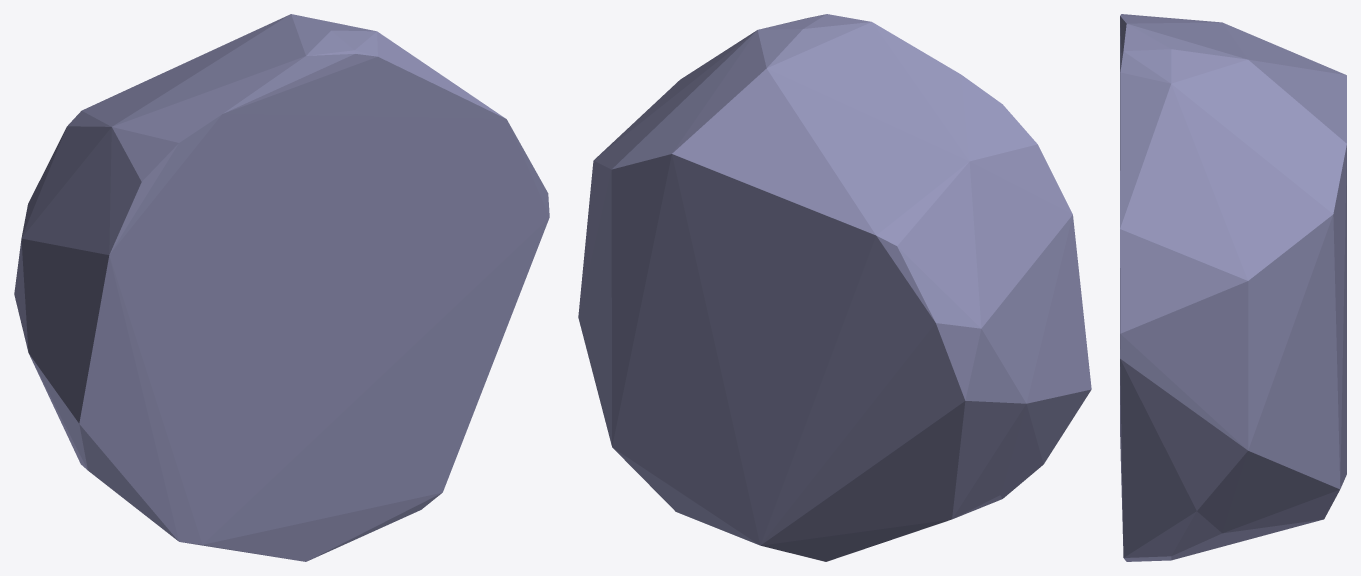
Rendered from kitchenware_bowl_i01.glb.
The picture shows the model from 3 angles, left to right: view 1: azimuth 30°, elevation 25°; view 2: azimuth 150°, elevation 25°; view 3: azimuth 270°, elevation 25°; orthographic projection.
Visible parts, largest first — view 1: geometry_0; view 2: geometry_0; view 3: geometry_0.
Boxes of the visible parts, x1,y1,x2,y2 form: geometry_0: (14,14,549,561); geometry_0: (578,14,1091,561); geometry_0: (1120,14,1346,561).
Bounding box in the file's own units: 0.4572 × 0.4757 × 0.1934.
